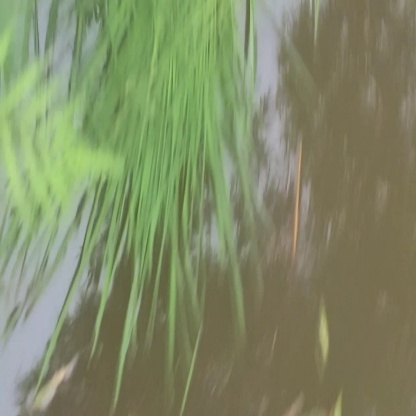grass: (90, 28, 269, 246)
